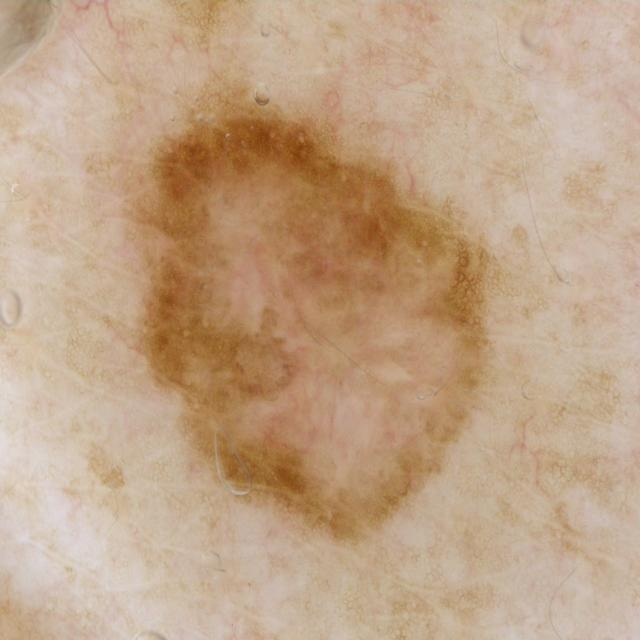Melanoma: (135, 91, 508, 548)
